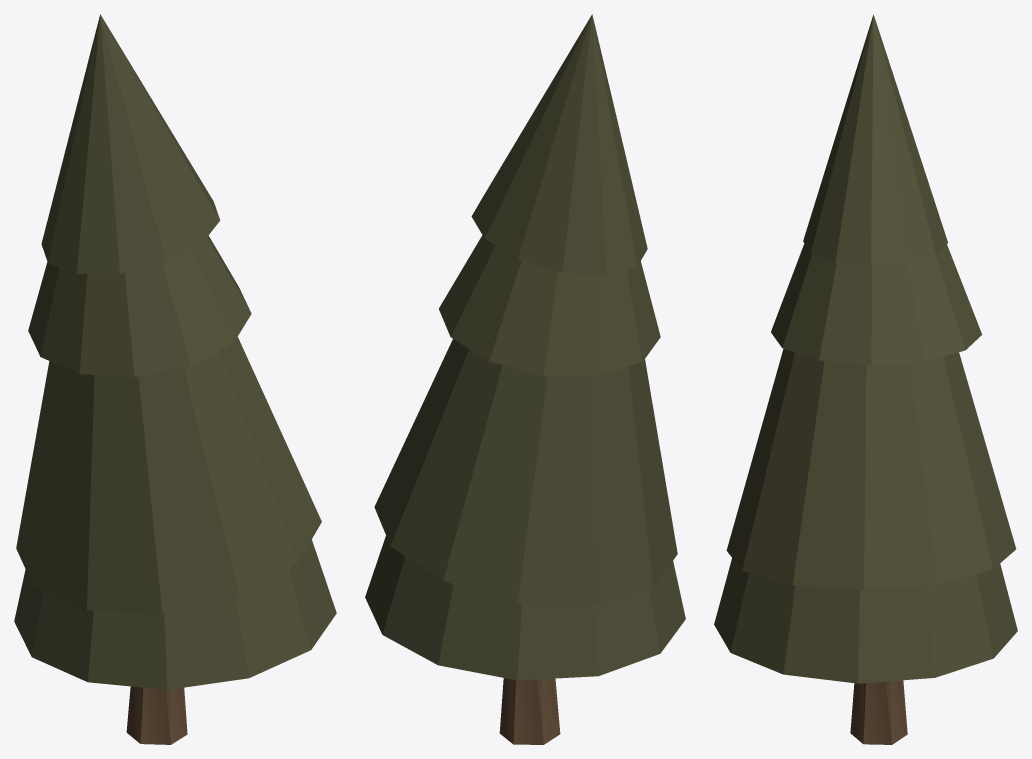
File: tree_conifer_green_1.glb
The picture shows the model from 3 angles, left to right: view 1: azimuth 30°, elevation 25°; view 2: azimuth 150°, elevation 25°; view 3: azimuth 270°, elevation 25°; orthographic projection. The views are drawn at different scales.
Parts seen in each view (by area): view 1: Tree Conifer 1.008; view 2: Tree Conifer 1.008; view 3: Tree Conifer 1.008.
Part boxes in pixels (bbox=[...]): Tree Conifer 1.008: bbox=[14, 14, 336, 744]; Tree Conifer 1.008: bbox=[365, 14, 685, 744]; Tree Conifer 1.008: bbox=[714, 14, 1017, 744].
Size of the model in its own units: 0.1604 by 0.4041 by 0.1607.
